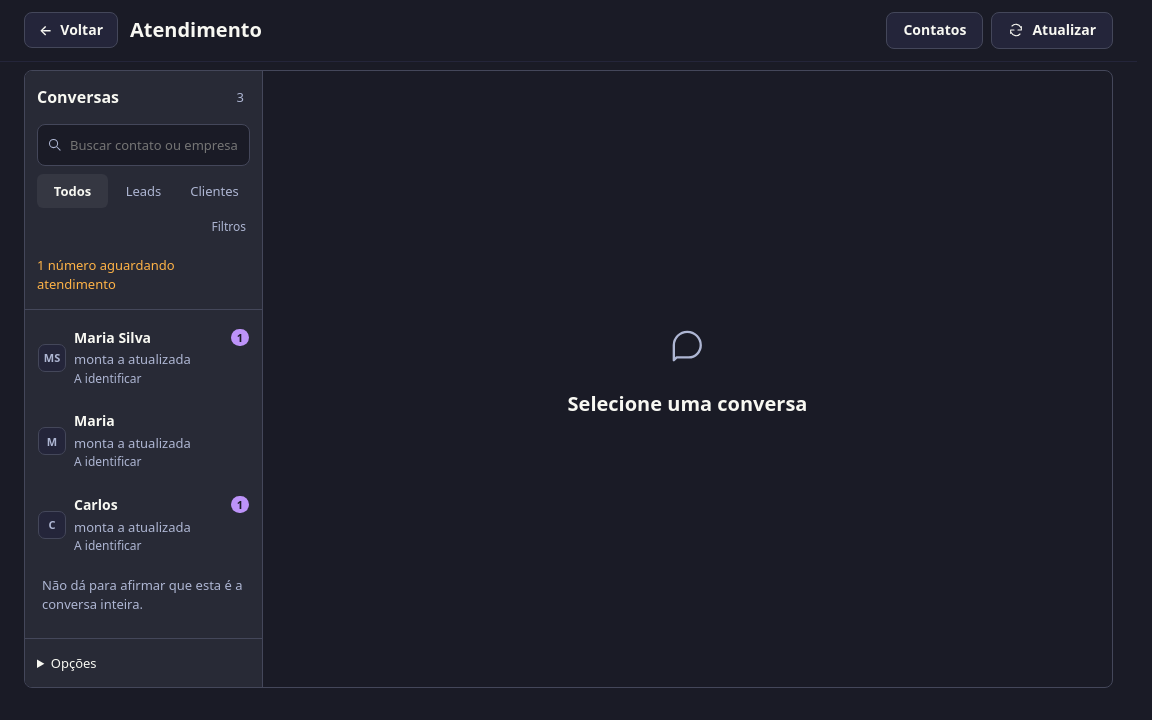
Test: o fio › ⚠ a recusa do servidor (409 FORA_DA_JANELA) aparece com a mensagem dele, nunca 'falhou'
Click the button with test id "conversa-cv1".
click(144, 358)  # box [30,317,257,398]
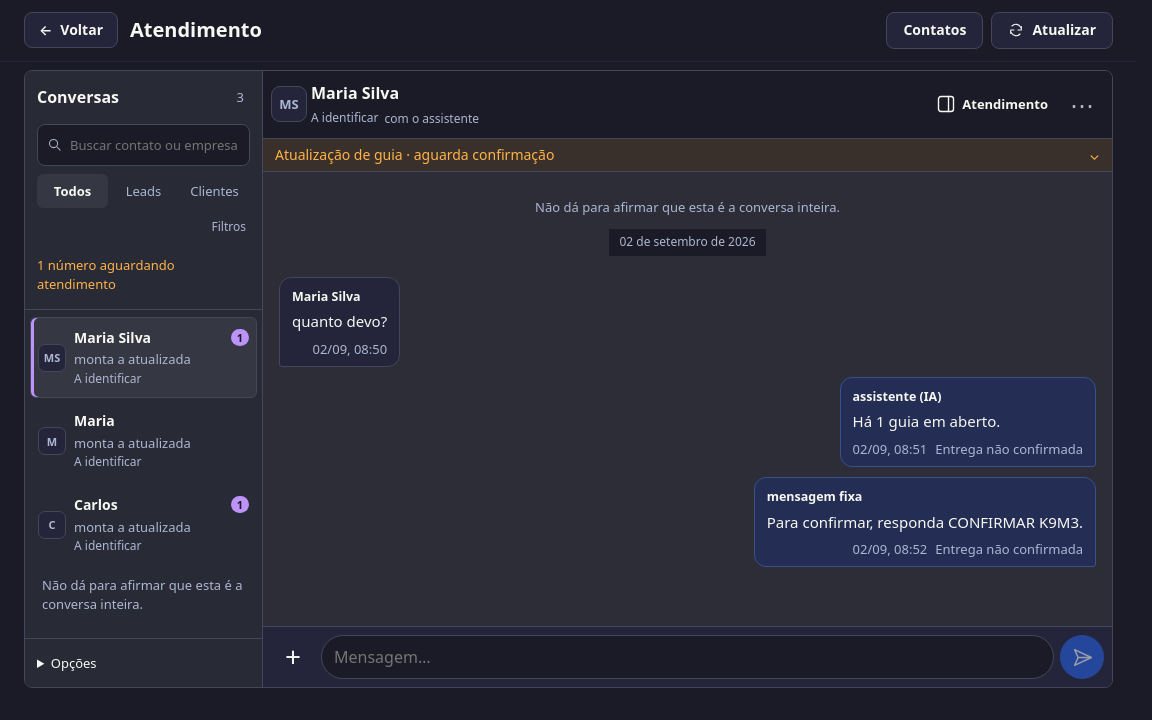
Type "oi" into the text box named "Responder ao cliente".
click(688, 657); type("oi")  # box [321,635,1054,679]
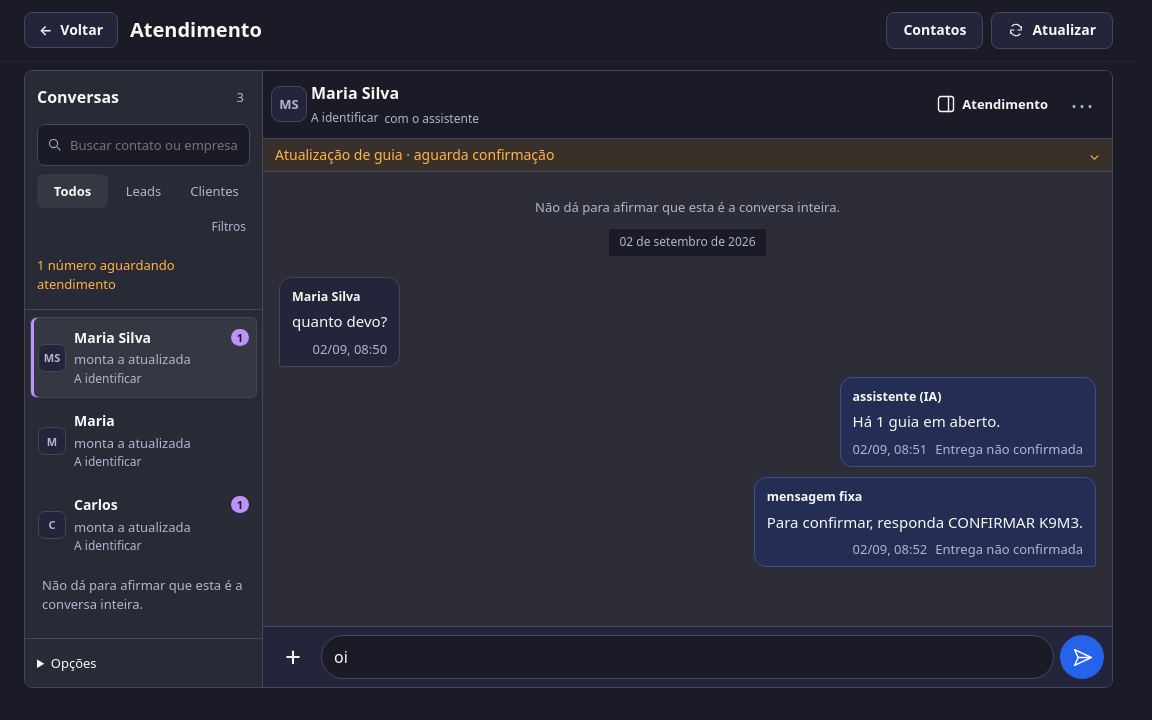
Click the button named "responder".
click(1082, 657)  # box [1060,635,1104,679]
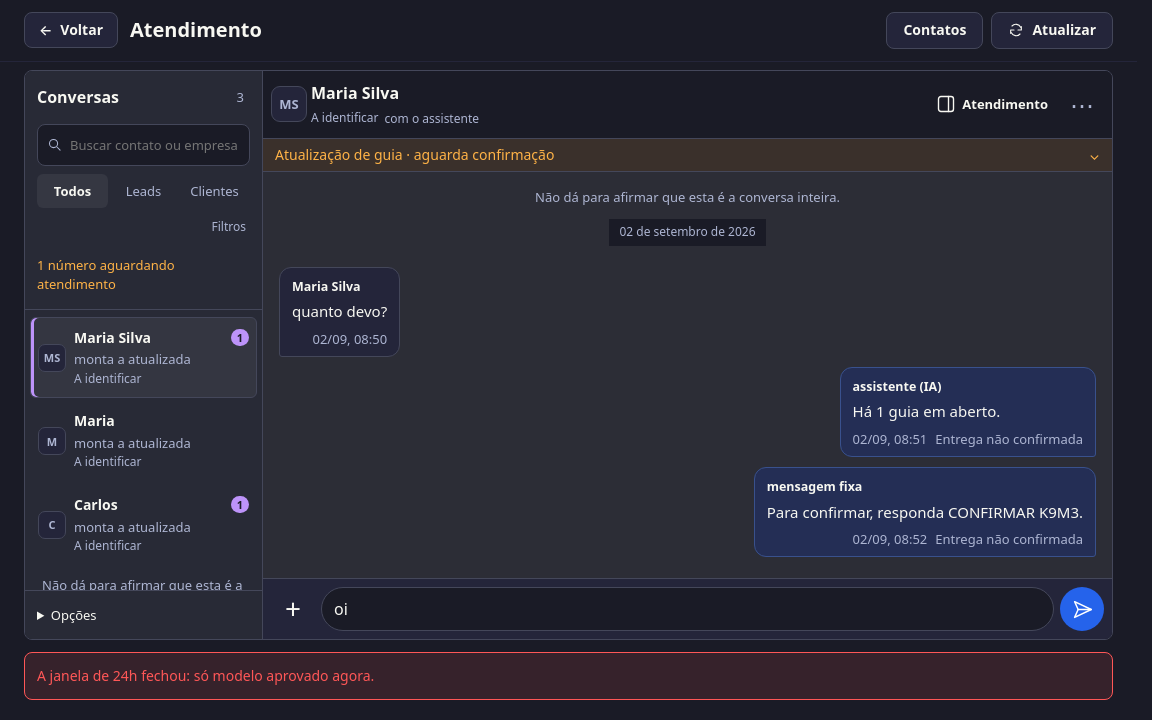
Expected: the message shows "só modelo aprovado agora", [37,666,374,685]
